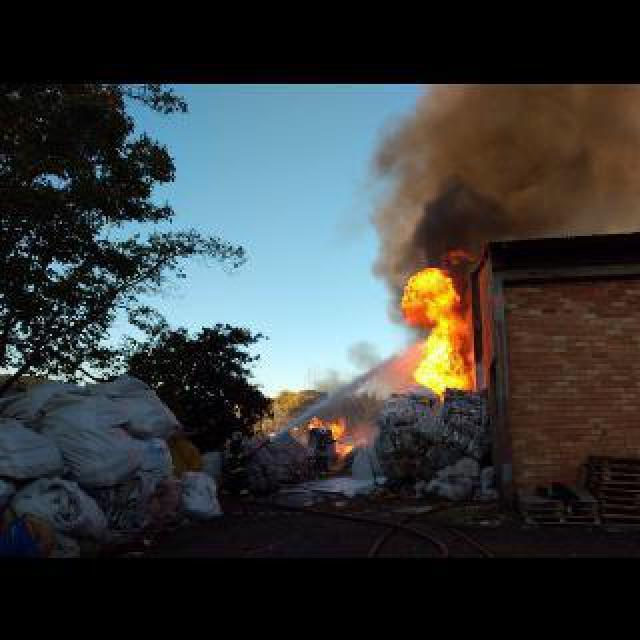Fire: (398, 266, 478, 388), (304, 414, 354, 454)
Smoke: (368, 80, 638, 272)
